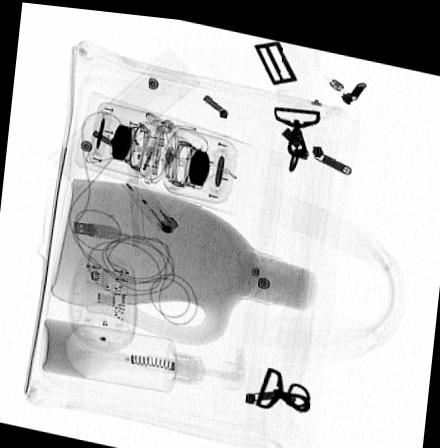Lighter: (123, 172, 180, 229)
